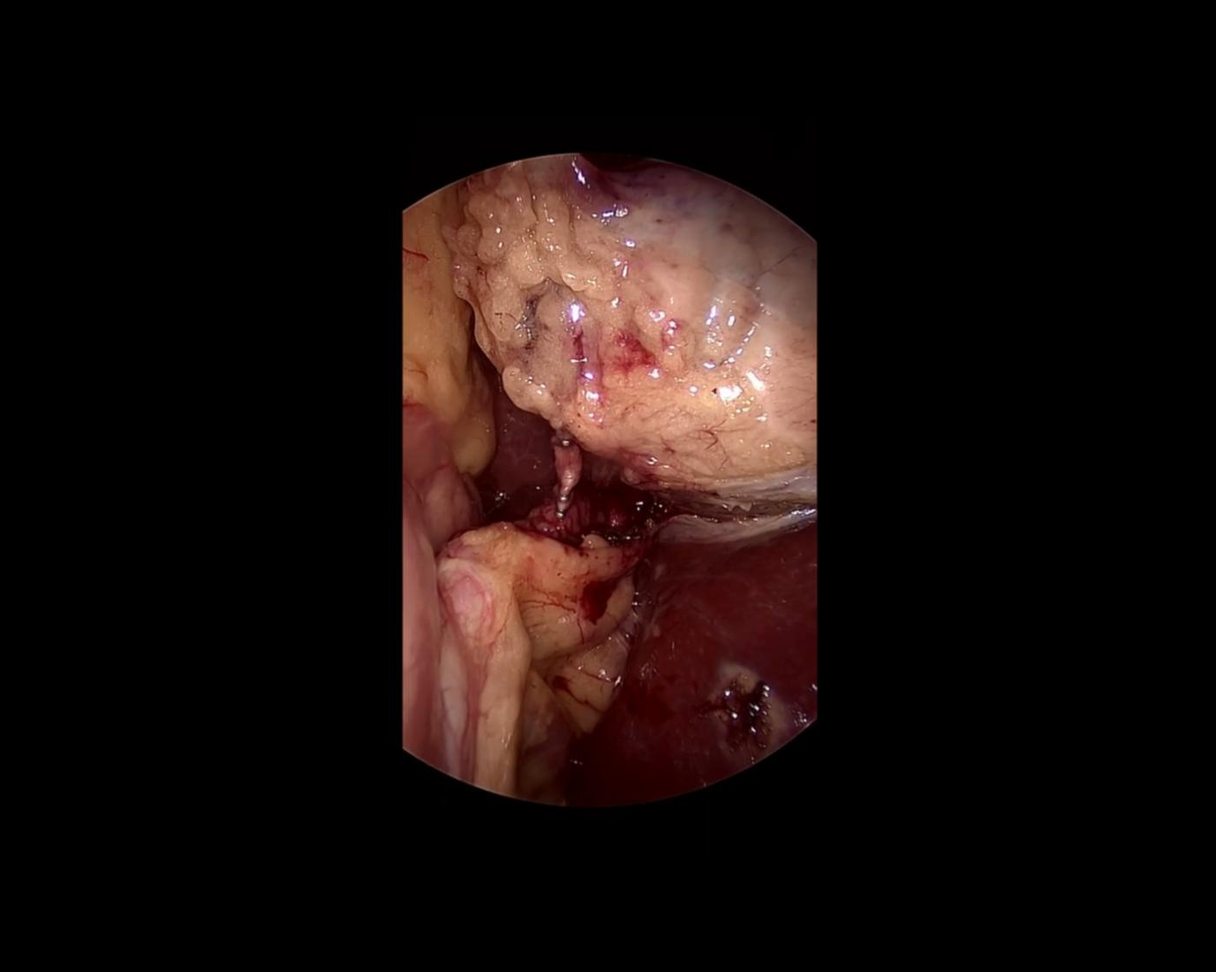Gallbladder: (441, 155, 814, 518)
Liver: (566, 511, 814, 807), (473, 401, 562, 529)
